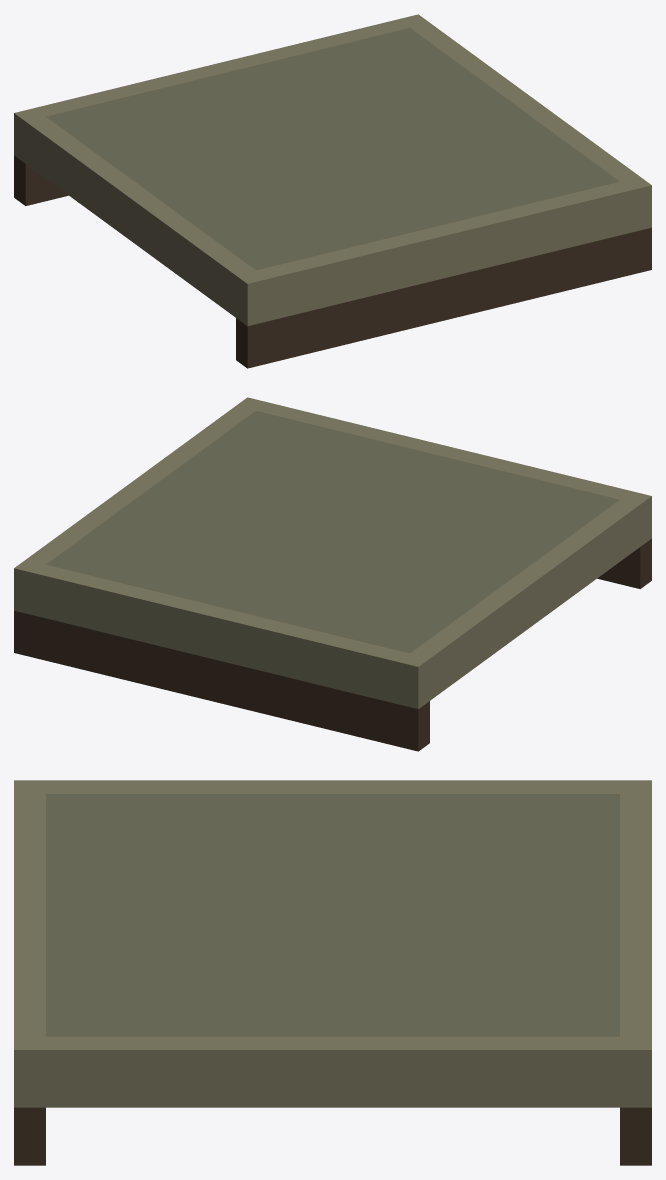
The model's file is M_Floor02.fbx.
3 views of the same model, one above another, from view 1: azimuth 30°, elevation 25°; view 2: azimuth 150°, elevation 25°; view 3: azimuth 270°, elevation 25° (orthographic). The views are drawn at different scales.
Parts seen in each view (by area): view 1: M_Floor02; view 2: M_Floor02; view 3: M_Floor02.
Boxes of the visible parts, x1,y1,x2,y2 form: M_Floor02: (14, 14, 651, 368); M_Floor02: (14, 397, 651, 751); M_Floor02: (14, 780, 651, 1165).
Size of the model in its own units: 100 by 20 by 100.
